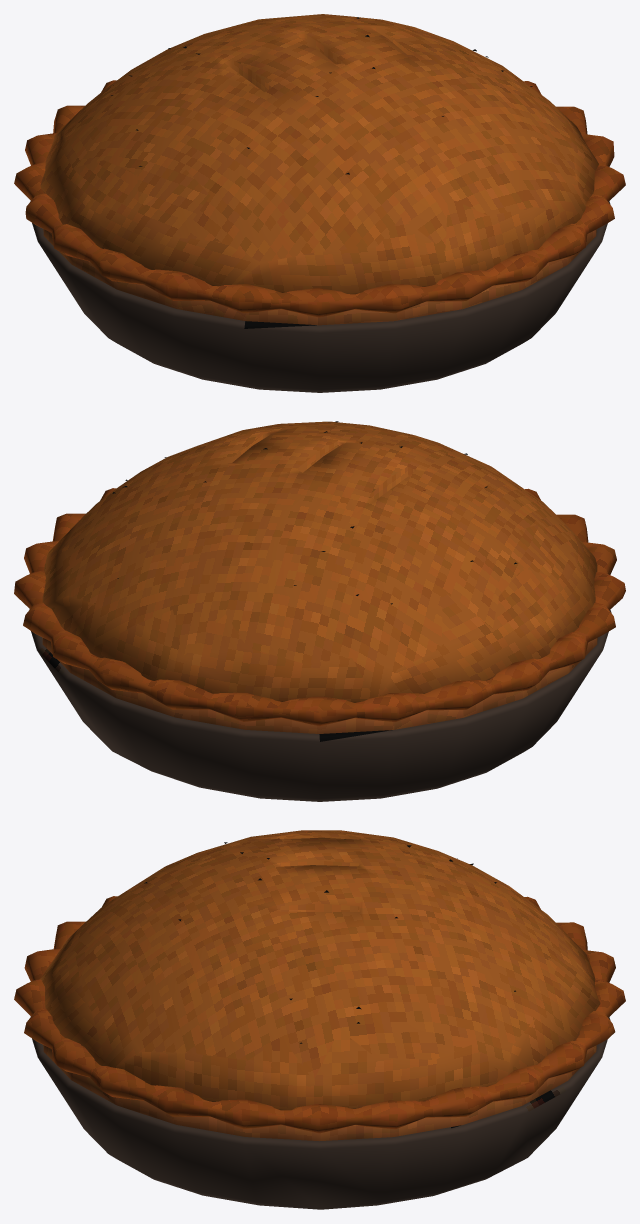
The model's file is pie_ps2_toasted.glb.
The picture shows the model from 3 angles, top to bottom: view 1: azimuth 30°, elevation 25°; view 2: azimuth 150°, elevation 25°; view 3: azimuth 270°, elevation 25°; orthographic projection.
Parts seen in each view (by area): view 1: PS2_Golden_Domed_Pie; view 2: PS2_Golden_Domed_Pie; view 3: PS2_Golden_Domed_Pie.
Part boxes in pixels (left/top/right/bottom): PS2_Golden_Domed_Pie: left=14, top=14, right=625, bottom=392; PS2_Golden_Domed_Pie: left=14, top=421, right=625, bottom=801; PS2_Golden_Domed_Pie: left=14, top=830, right=625, bottom=1209.
Size of the model in its own units: 0.3101 by 0.1381 by 0.3101.
Materials: 1 (1 with a texture image).
